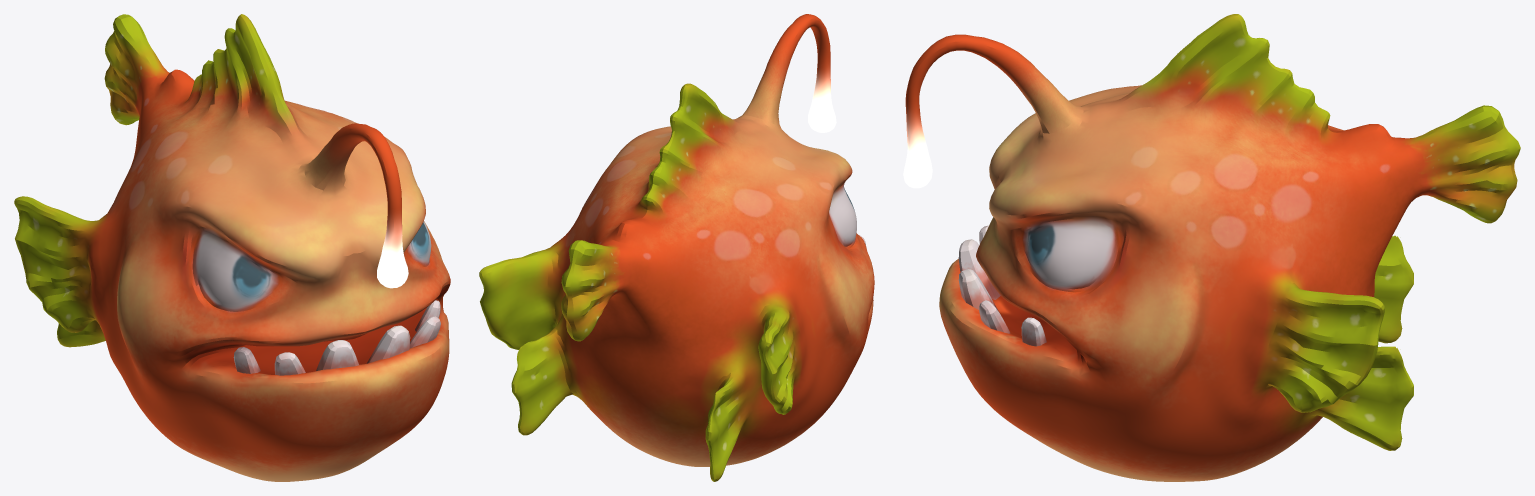
Rendered from peixe_lanterna.fbx.
3 renders of one model, left to right at view 1: azimuth 30°, elevation 25°; view 2: azimuth 150°, elevation 25°; view 3: azimuth 270°, elevation 25°, orthographic. The views are drawn at different scales.
Visible parts, largest first — view 1: Default; view 2: Default; view 3: Default.
Part boxes in pixels (x1,y1,x2,y2): Default: [14, 14, 450, 481]; Default: [479, 14, 874, 481]; Default: [903, 14, 1520, 481].
Bounding box in the file's own units: 192 × 239 × 296.
Materials: 1 (1 with a texture image).
